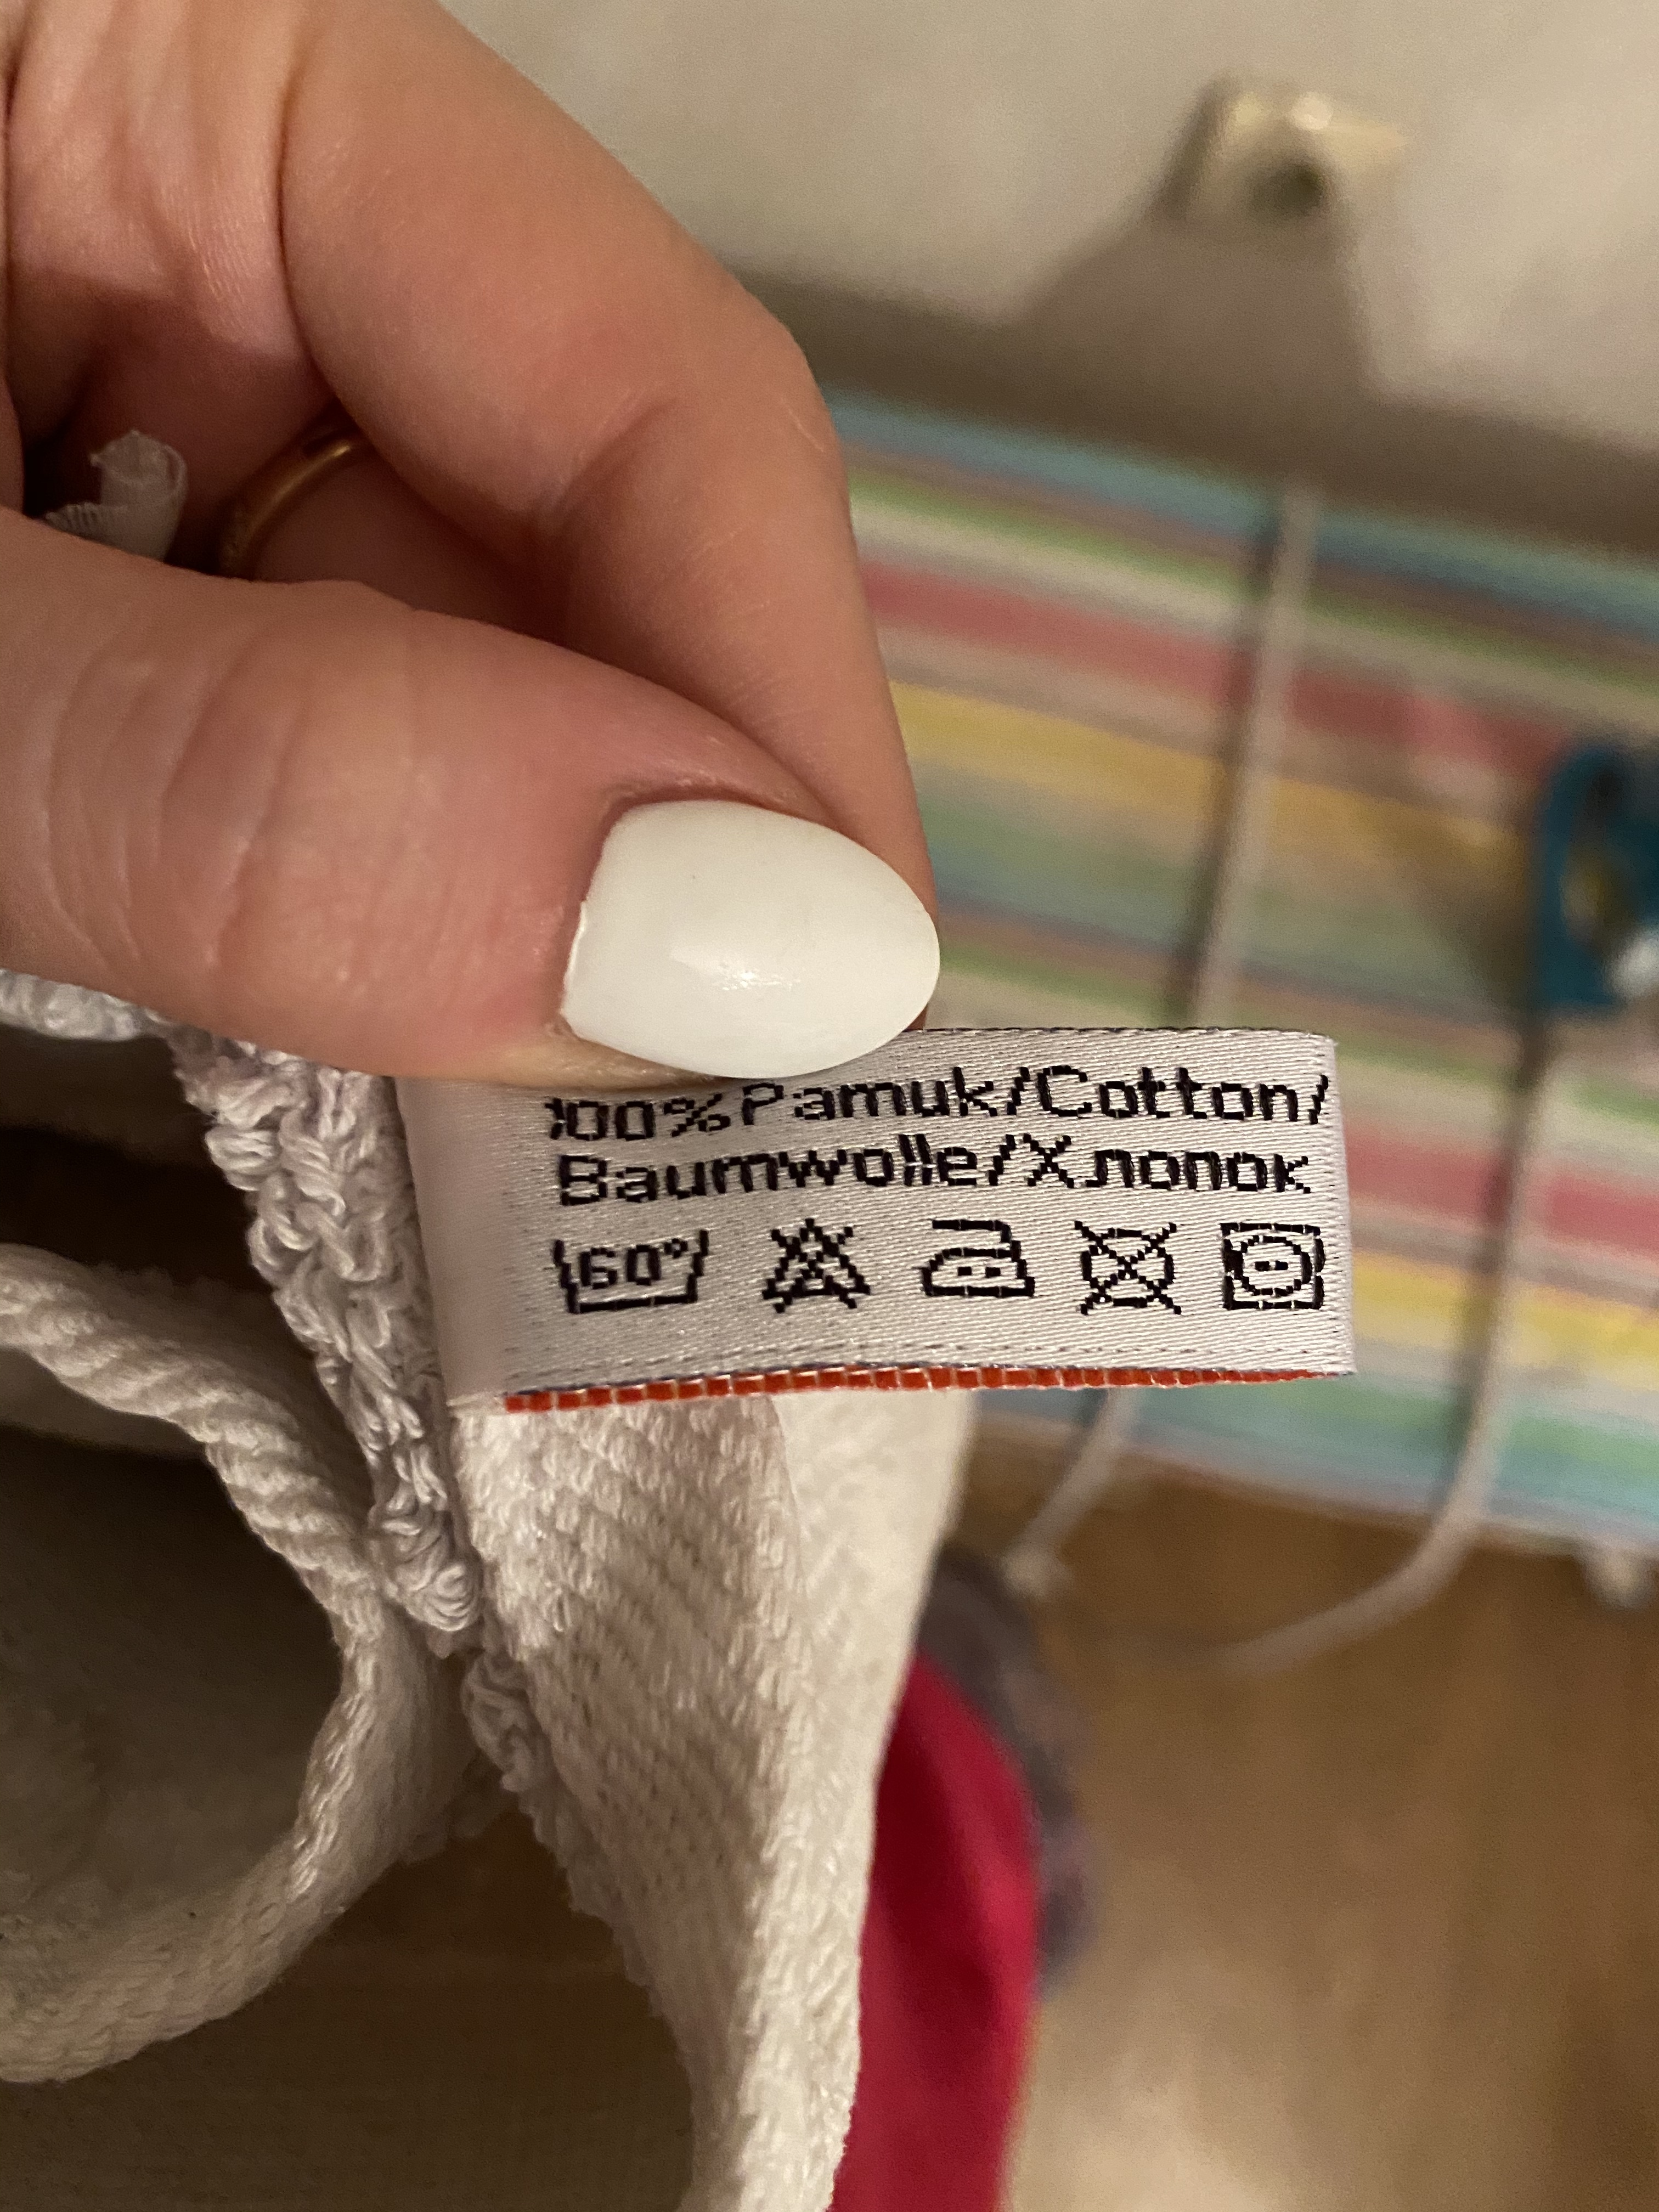do_not_bleach: (755, 1211, 875, 1320)
do_not_dry_clean: (1072, 1214, 1188, 1320)
ironing_at_med_temp: (911, 1207, 1039, 1310)
tumble_drying_normal: (1215, 1214, 1333, 1329)
wash_at_or_below_60: (545, 1216, 716, 1322)
